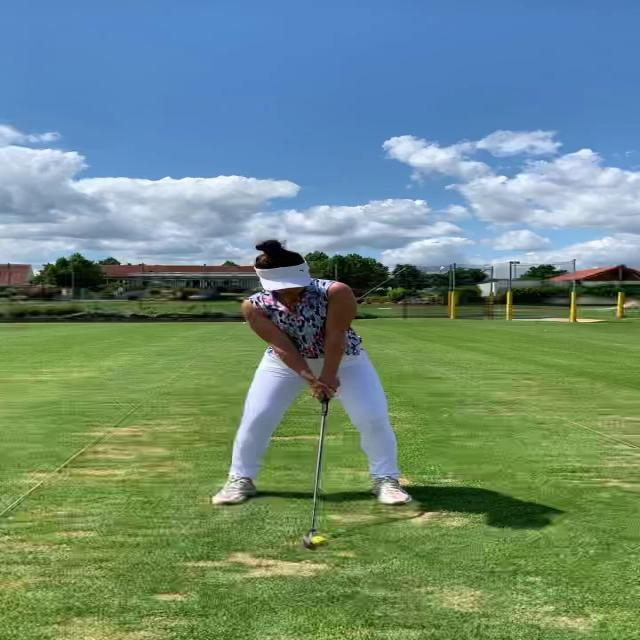ClubHead: (300, 536, 310, 547)
GolfBall: (310, 536, 327, 546)
